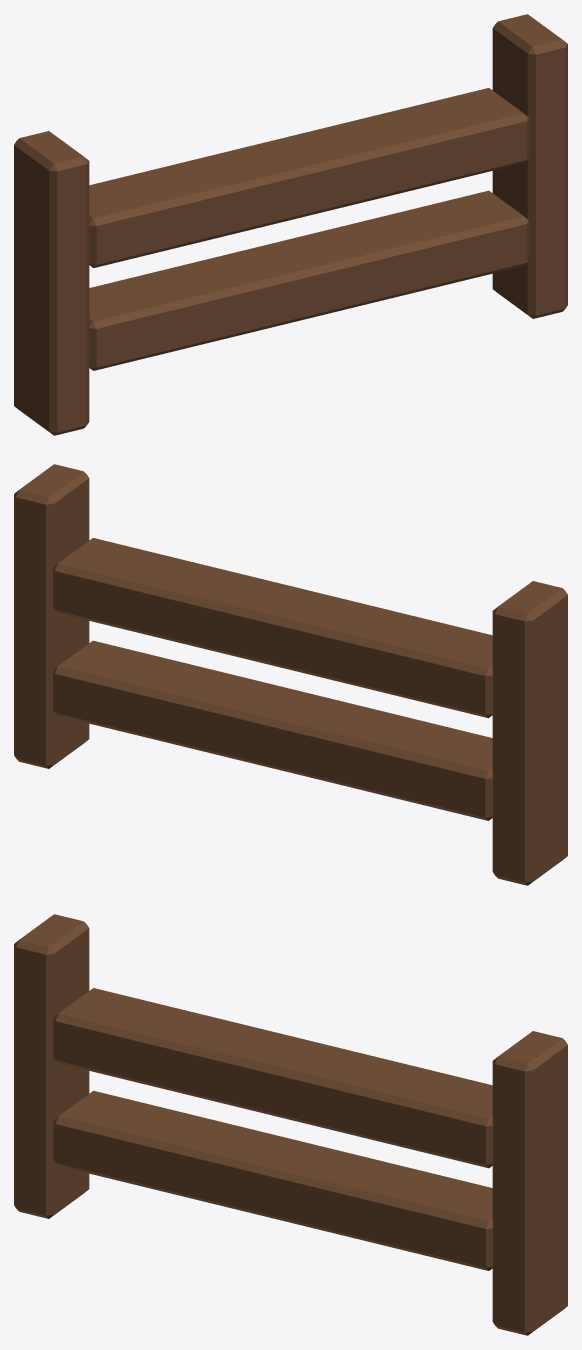
File: Fence.fbx
3 renders of one model, top to bottom at view 1: azimuth 30°, elevation 25°; view 2: azimuth 150°, elevation 25°; view 3: azimuth 330°, elevation 25°, orthographic.
Visible parts, largest first — view 1: Cube.001; view 2: Cube.001; view 3: Cube.001.
Boxes of the visible parts, <box> form: Cube.001: <box>14,14,567,435</box>; Cube.001: <box>14,464,567,885</box>; Cube.001: <box>14,914,567,1335</box>.
Size of the model in its own units: 345 by 173 by 47.24.
